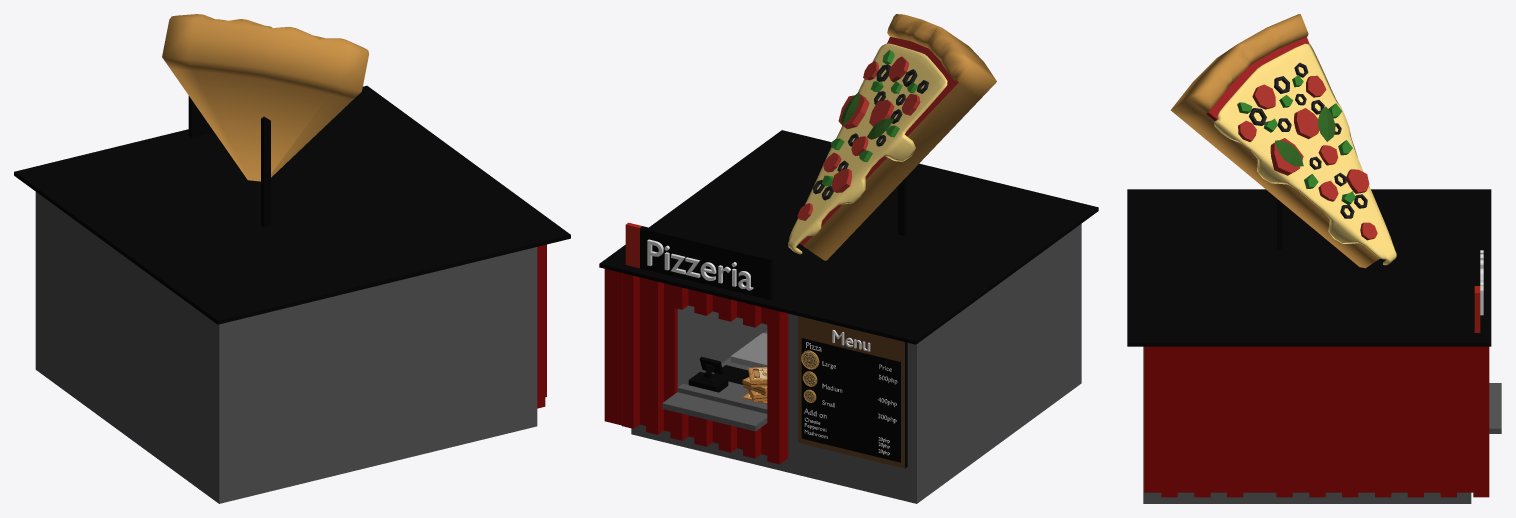
File: pizza_modern_.glb
3 views of the same model, side by side, from view 1: azimuth 30°, elevation 25°; view 2: azimuth 150°, elevation 25°; view 3: azimuth 270°, elevation 25° (orthographic). The views are drawn at different scales.
Parts seen in each view (by area): view 1: Text.023; view 2: Text.023; view 3: Text.023.
Part boxes in pixels (<box>): Text.023: <box>14,14,570,503</box>; Text.023: <box>599,14,1098,503</box>; Text.023: <box>1127,14,1501,503</box>.
Bounding box in the file's own units: 67.49 × 76.08 × 69.34.
